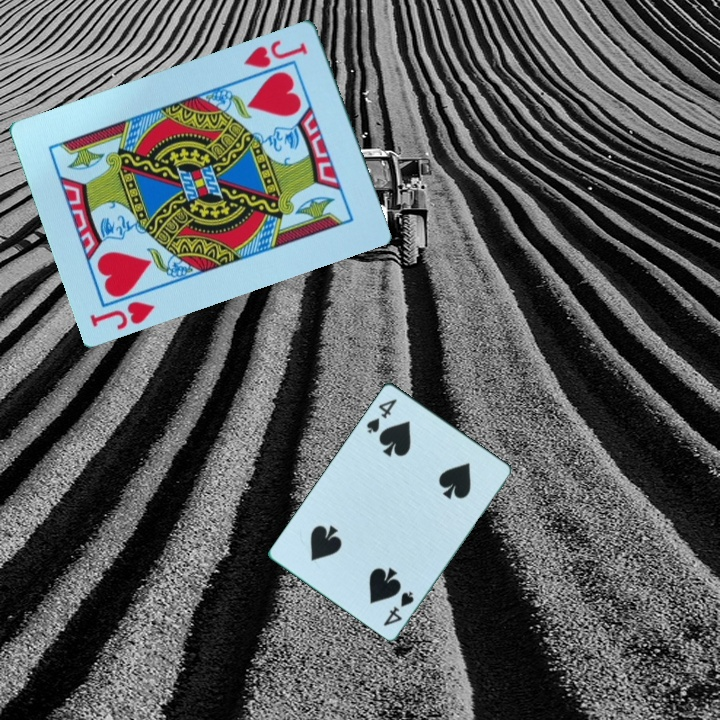4s: (379, 587, 417, 629), (362, 395, 400, 436)
Jh: (86, 296, 158, 332), (240, 35, 311, 71)
